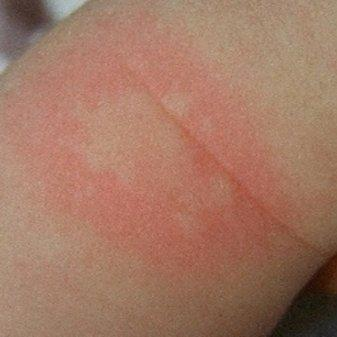Mosquito: (47, 60, 250, 245)
